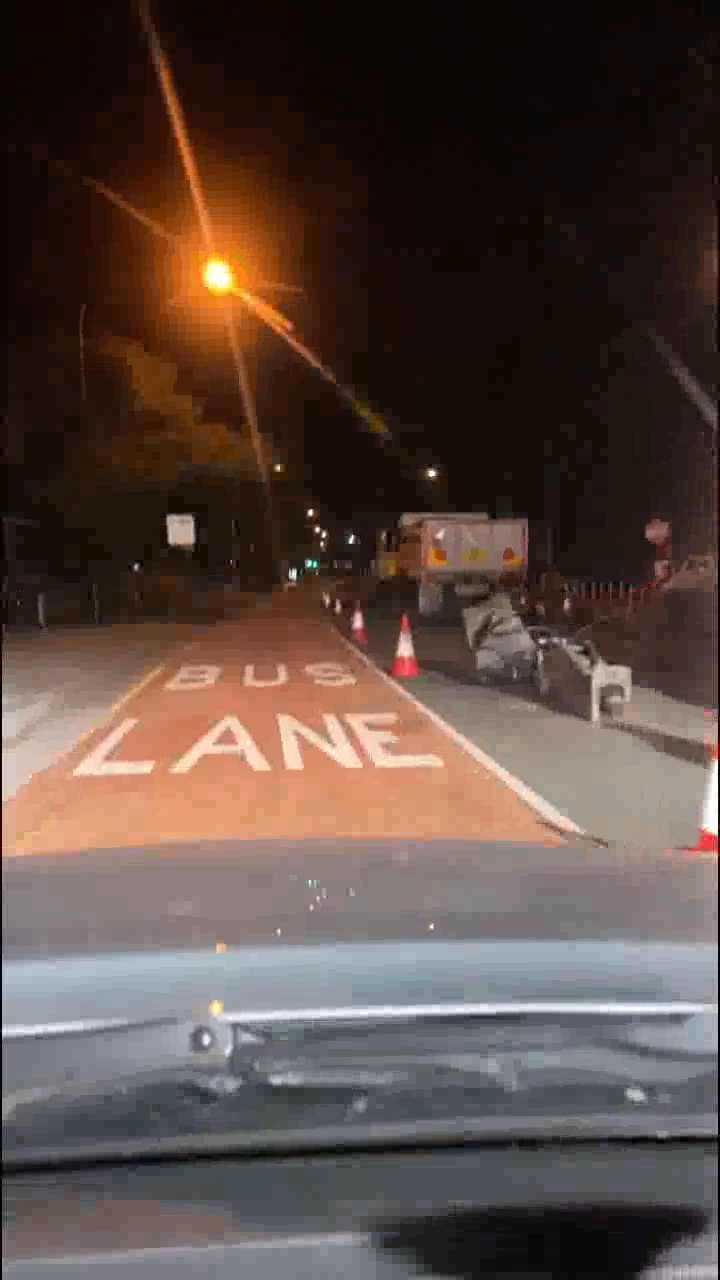road cone: (389, 604, 424, 688), (337, 590, 370, 652)
truck: (383, 497, 531, 596)
